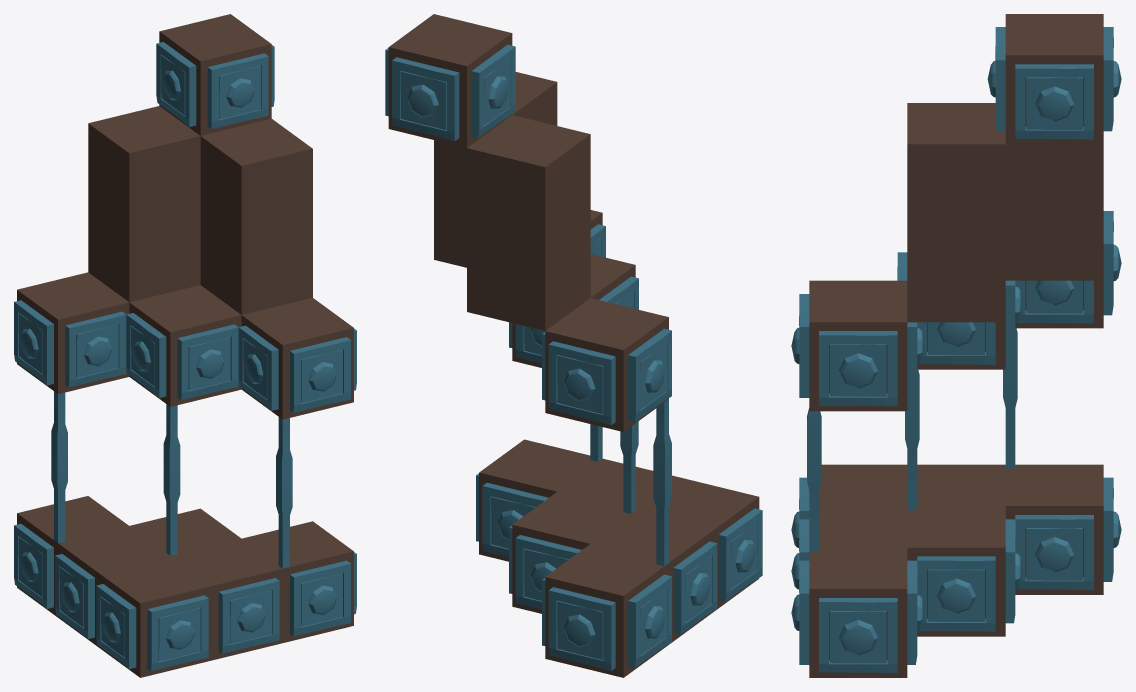
File: Down_Up_env_round.fbx
The picture shows the model from 3 angles, left to right: view 1: azimuth 30°, elevation 25°; view 2: azimuth 150°, elevation 25°; view 3: azimuth 270°, elevation 25°; orthographic projection. The views are drawn at different scales.
Parts seen in each view (by area): view 1: Down_Up_env_round; view 2: Down_Up_env_round; view 3: Down_Up_env_round.
Boxes of the visible parts, x1,y1,x2,y2 form: Down_Up_env_round: (14,14,356,677); Down_Up_env_round: (385,14,762,677); Down_Up_env_round: (791,14,1121,677).
Size of the model in its own units: 33.65 by 70 by 33.65.
1 material, 1 textured.
